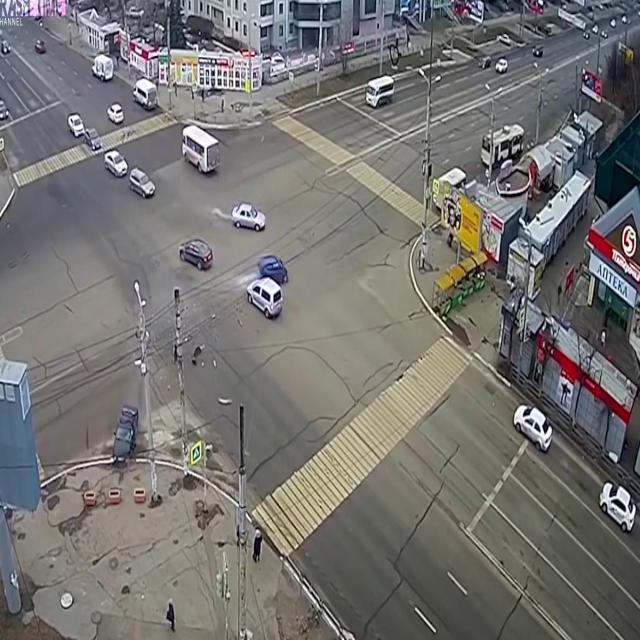accident: (240, 247, 296, 326), (110, 380, 144, 480)
